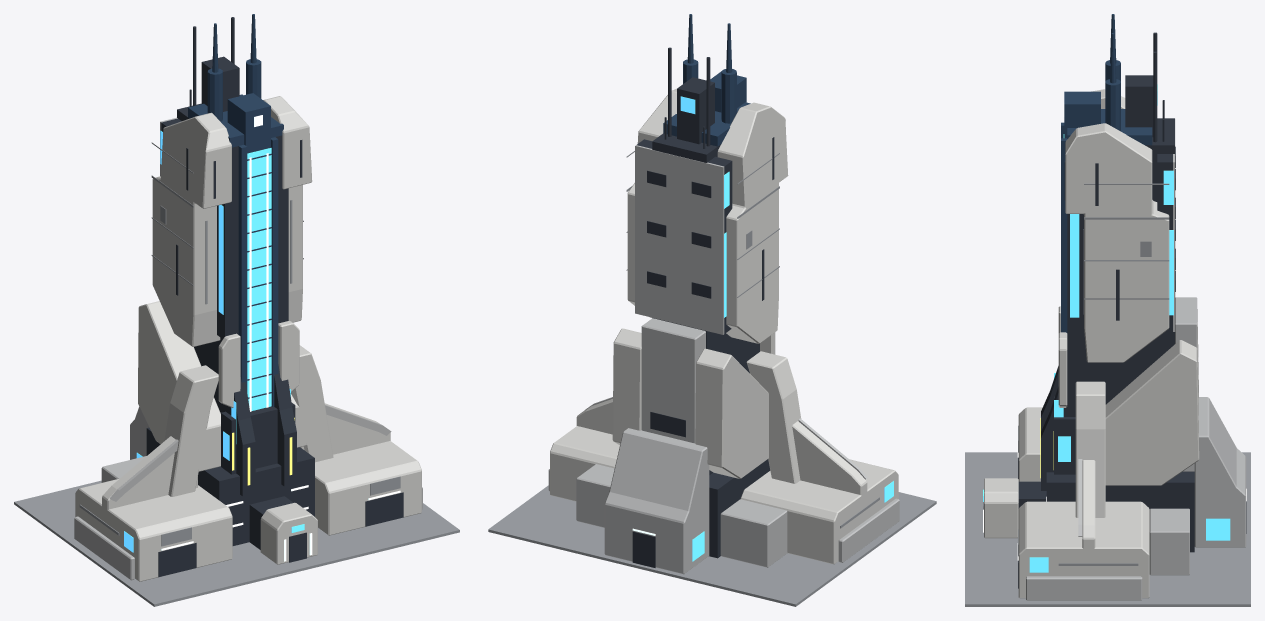
File: B01_tower_blender.glb
3 renders of one model, left to right at view 1: azimuth 30°, elevation 25°; view 2: azimuth 150°, elevation 25°; view 3: azimuth 270°, elevation 25°, orthographic.
Visible parts, largest first — view 1: B01_SideSlab_L, B01_Podium, B01_WingBlock_L, B01_WingBlock_R, B01_Buttress_L, B01_GlassColumn, B01_LowerHub, B01_Leg_L, B01_SideSlab_R, B01_Core, B01_Leg_R, B01_EntrancePorch (+25 smaller); view 2: B01_BackPanel, B01_SideSlab_L, B01_BackFoot, B01_Podium, B01_Buttress_L, B01_WingBlock_L, B01_BackWall, B01_Leg_L, B01_SideAnnex_L, B01_WingBlock_R, B01_Buttress_R, B01_WingFin_L (+12 smaller); view 3: B01_SideSlab_R, B01_Podium, B01_Buttress_R, B01_WingBlock_R, B01_BackFoot, B01_Core, B01_Leg_R, B01_LowerHub, B01_WingFoot_R, B01_SideAnnex_R, B01_EntrancePorch, B01_WingBlock_L (+20 smaller).
Boxes of the visible parts, x1,y1,x2,y2 form: B01_SideSlab_L: [152, 112, 231, 346]; B01_Podium: [14, 480, 459, 606]; B01_WingBlock_L: [75, 478, 232, 581]; B01_WingBlock_R: [315, 441, 421, 535]; B01_Buttress_L: [138, 301, 220, 471]; B01_GlassColumn: [247, 148, 271, 410]; B01_LowerHub: [146, 427, 314, 545]; B01_Leg_L: [164, 365, 218, 496]; B01_SideSlab_R: [263, 96, 312, 322]; B01_Core: [177, 103, 283, 414]; B01_Leg_R: [291, 345, 333, 462]; B01_EntrancePorch: [260, 502, 317, 564]; B01_BackPanel: [635, 145, 724, 334]; B01_SideSlab_L: [717, 102, 788, 343]; B01_BackFoot: [604, 428, 709, 574]; B01_Podium: [488, 485, 936, 606]; B01_Buttress_L: [695, 348, 768, 478]; B01_WingBlock_L: [740, 459, 898, 564]; B01_BackWall: [641, 318, 705, 443]; B01_Leg_L: [746, 351, 801, 483]; B01_SideAnnex_L: [720, 499, 787, 567]; B01_WingBlock_R: [550, 426, 619, 501]; B01_Buttress_R: [612, 328, 641, 445]; B01_WingFin_L: [792, 421, 867, 495]; B01_SideSlab_R: [1065, 123, 1169, 362]; B01_Podium: [965, 452, 1250, 606]; B01_Buttress_R: [1105, 340, 1199, 485]; B01_WingBlock_R: [1018, 501, 1149, 598]; B01_BackFoot: [1194, 397, 1246, 547]; B01_Core: [1067, 118, 1174, 416]; B01_Leg_R: [1075, 381, 1105, 517]; B01_LowerHub: [1046, 471, 1194, 552]; B01_WingFoot_R: [1026, 576, 1142, 600]; B01_SideAnnex_R: [1149, 508, 1189, 575]; B01_EntrancePorch: [984, 478, 1018, 538]; B01_WingBlock_L: [1018, 407, 1042, 481].
Bounding box in the file's own units: 38.4 × 59.7 × 30.5.
